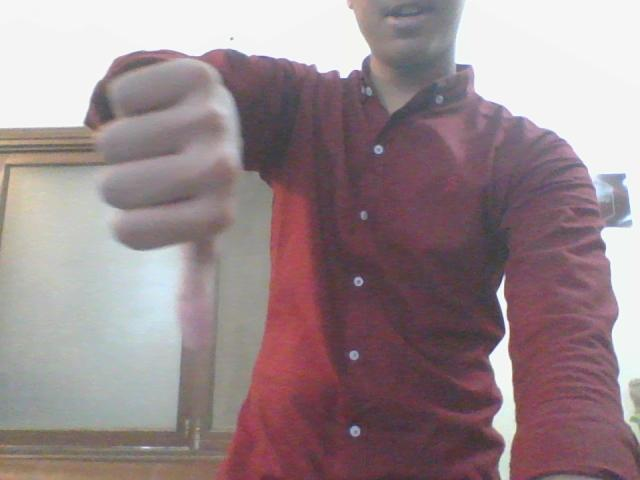thumbs-down: (101, 64, 240, 340)
